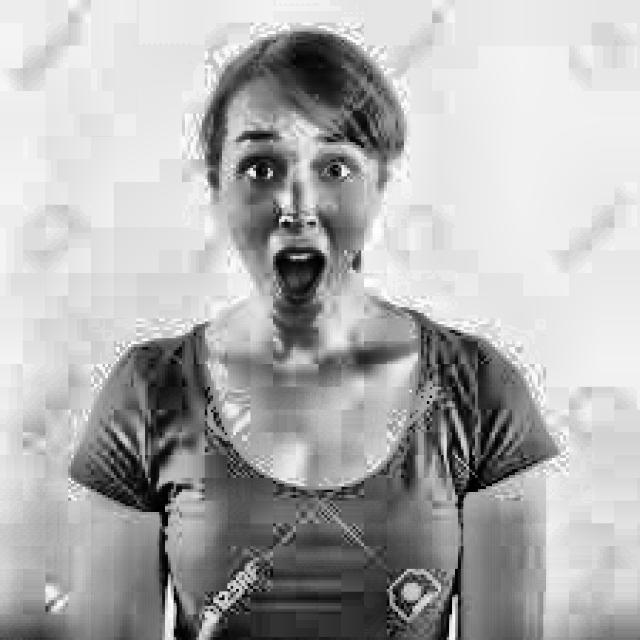surprise: (188, 24, 426, 351)
